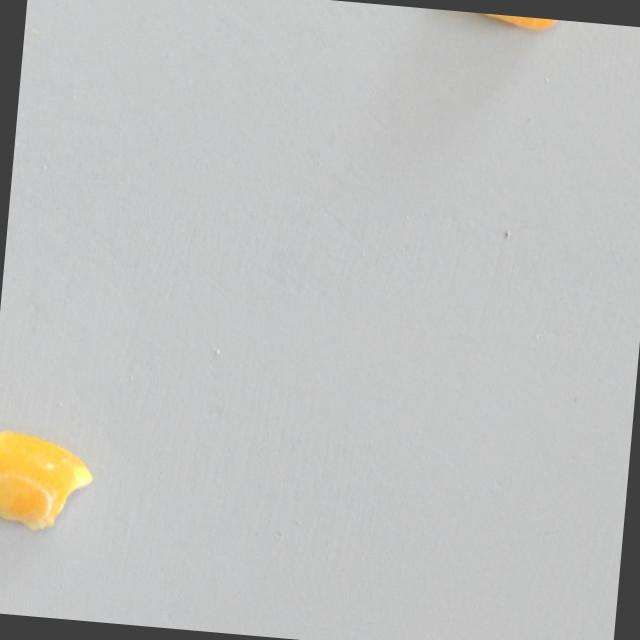pelicula: (0, 426, 103, 539), (451, 10, 567, 34)
